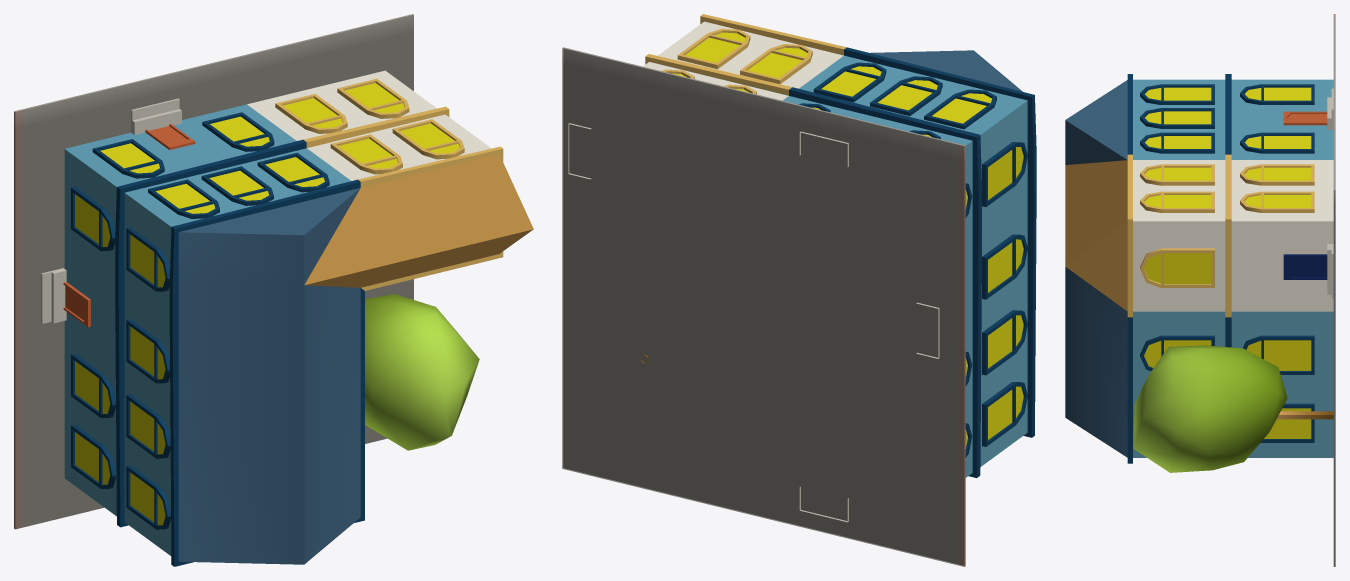
Rendered from Low_Office_03.fbx.
3 views of the same model, side by side, from view 1: azimuth 30°, elevation 25°; view 2: azimuth 150°, elevation 25°; view 3: azimuth 270°, elevation 25° (orthographic). The views are drawn at different scales.
Visible parts, largest first — view 1: Low_Office_03; view 2: Low_Office_03; view 3: Low_Office_03.
Part boxes in pixels (bbox=[...]): Low_Office_03: bbox=[14, 14, 533, 566]; Low_Office_03: bbox=[562, 14, 1036, 566]; Low_Office_03: bbox=[1065, 14, 1335, 566].
Bounding box in the file's own units: 200 × 200 × 130.
